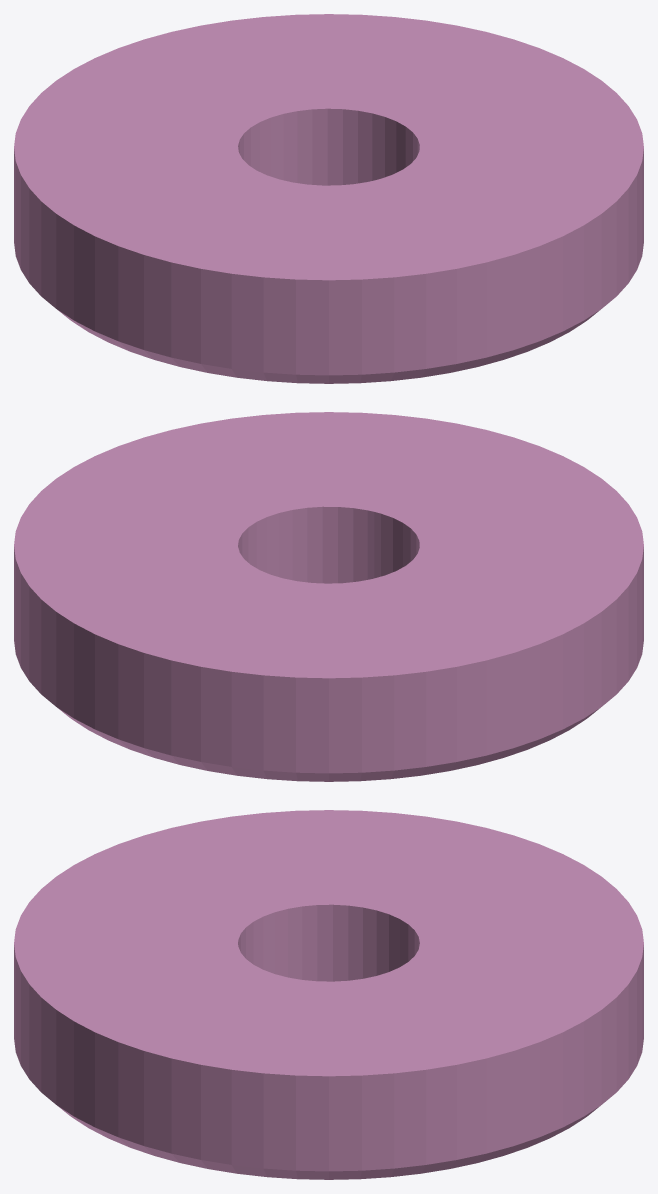
The model's file is case-04_lib00002.glb.
3 views of the same model, one above another, from view 1: azimuth 30°, elevation 25°; view 2: azimuth 150°, elevation 25°; view 3: azimuth 270°, elevation 25° (orthographic).
Parts seen in each view (by area): view 1: lib00002; view 2: lib00002; view 3: lib00002.
Boxes of the visible parts, left/top/right/bottom form: lib00002: left=14, top=14, right=643, bottom=383; lib00002: left=14, top=412, right=643, bottom=781; lib00002: left=14, top=810, right=643, bottom=1179.
Size of the model in its own units: 18 by 3.5 by 18.
